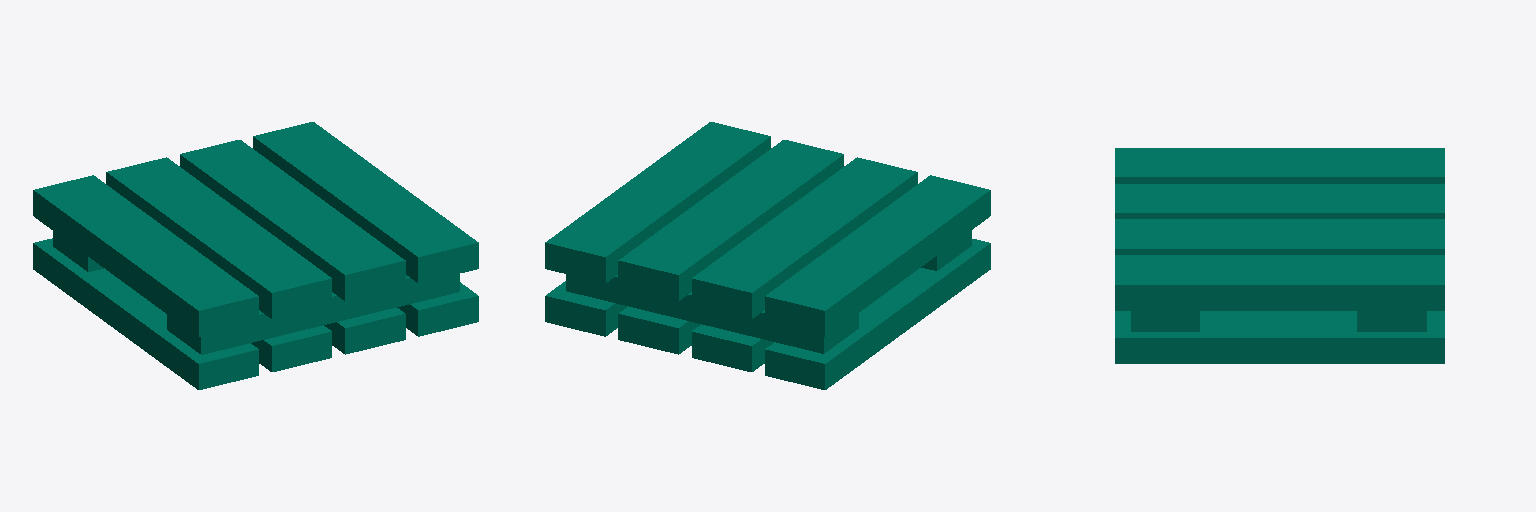
File: Pallet.obj
3 views of the same model, side by side, from view 1: azimuth 30°, elevation 25°; view 2: azimuth 150°, elevation 25°; view 3: azimuth 270°, elevation 25° (orthographic).
Visible parts, largest first — view 1: Pallet; view 2: Pallet; view 3: Pallet.
Part boxes in pixels (x1,y1,x2,y2): Pallet: (33,122,478,389); Pallet: (545,122,990,389); Pallet: (1115,148,1444,363).
Size of the model in its own units: 64.63 by 17.53 by 66.12.